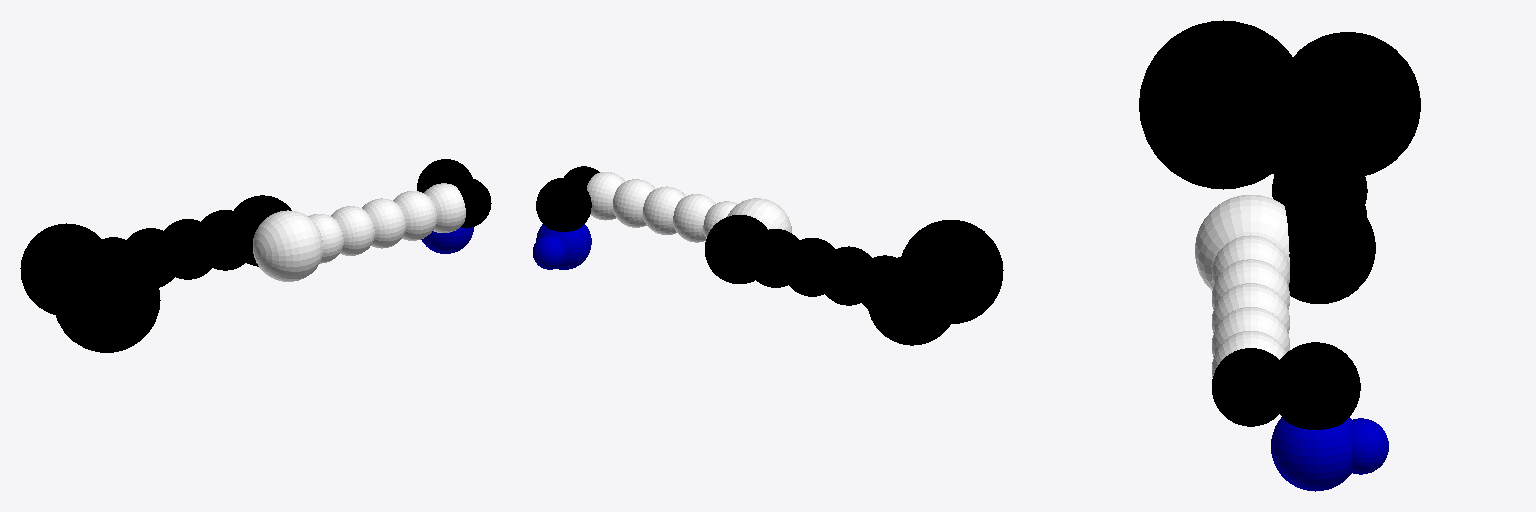
The robot description file, URDF, robot "ur10":
<?xml version="1.0" ?>
<!-- =================================================================================== -->
<!-- |    This document was autogenerated by xacro from urdf/ur10_robot.urdf.xacro     | -->
<!-- |    EDITING THIS FILE BY HAND IS NOT RECOMMENDED                                 | -->
<!-- =================================================================================== -->
<robot name="ur10" xmlns:xacro="http://www.ros.org/wiki/xacro">
    <material name="Red">
        <color rgba="0.8 0.0 0.0 1.0"/>
    </material>
    <material name="Blue">
        <color rgba="0.0 0.0 0.8 1.0"/>
    </material>
    <material name="White">
        <color rgba="1.0 1.0 1.0 1.0"/>
    </material>
    <material name="Black">
        <color rgba="0.0 0.0 0.0 1.0"/>
    </material>
  <!-- common stuff -->
  <gazebo>
    <plugin filename="libgazebo_ros_control.so" name="ros_control">
      <!--robotNamespace>/</robotNamespace-->
      <!--robotSimType>gazebo_ros_control/DefaultRobotHWSim</robotSimType-->
    </plugin>
    <!--
    <plugin name="gazebo_ros_power_monitor_controller" filename="libgazebo_ros_power_monitor.so">
      <alwaysOn>true</alwaysOn>
      <updateRate>1.0</updateRate>
      <timeout>5</timeout>
      <powerStateTopic>power_state</powerStateTopic>
      <powerStateRate>10.0</powerStateRate>
      <fullChargeCapacity>87.78</fullChargeCapacity>
      <dischargeRate>-474</dischargeRate>
      <chargeRate>525</chargeRate>
      <dischargeVoltage>15.52</dischargeVoltage>
      <chargeVoltage>16.41</chargeVoltage>
    </plugin>
-->
  </gazebo>
  <!-- ur10 -->
  <!-- arm -->
  <link name="base_link">
    <visual>
      <geometry>
        <mesh filename="package://meshes/ur10/visual/Base.dae"/>
      </geometry>
    </visual>
    <collision>
      <geometry>
        <mesh filename="package://meshes/ur10/collision/Base.dae"/>
      </geometry>
    </collision>
    <inertial>
      <mass value="4.0"/>
      <origin rpy="0 0 0" xyz="0.0 0.0 0.0"/>
      <inertia ixx="0.0061063308908" ixy="0.0" ixz="0.0" iyy="0.0061063308908" iyz="0.0" izz="0.01125"/>
    </inertial>
  </link>
  <joint name="shoulder_pan_joint" type="revolute">
    <parent link="base_link"/>
    <child link="shoulder_link"/>
    <origin rpy="0.0 0.0 0.0" xyz="0.0 0.0 0.1273"/>
    <axis xyz="0 0 1"/>
    <limit effort="330.0" lower="-6.2831853" upper="6.2831853" velocity="2.16"/>
    <dynamics damping="0.0" friction="0.0"/>
  </joint>
  <link name="shoulder_link">
    <visual>
      <geometry>
        <mesh filename="package://meshes/ur10/visual/Shoulder.dae"/>
      </geometry>
    </visual>
    <collision>
      <geometry>
        <mesh filename="package://meshes/ur10/collision/Shoulder.dae"/>
      </geometry>
    </collision>
    <visual name="ball_0">
      <origin xyz="0.0 -0.0 0.0" rpy="0.0 -0.0 0.0"/>
      <geometry>
        <sphere radius="0.15"/>
      </geometry>
      <material name="Black"/>
    </visual>
    <inertial>
      <mass value="7.778"/>
      <origin rpy="0 0 0" xyz="0.0 0.0 0.0"/>
      <inertia ixx="0.0314743125769" ixy="0.0" ixz="0.0" iyy="0.0314743125769" iyz="0.0" izz="0.021875625"/>
    </inertial>
  </link>
  <joint name="shoulder_lift_joint" type="revolute">
    <parent link="shoulder_link"/>
    <child link="upper_arm_link"/>
    <origin rpy="0.0 1.570796325 0.0" xyz="0.0 0.220941 0.0"/>
    <axis xyz="0 1 0"/>
    <limit effort="330.0" lower="-6.2831853" upper="6.2831853" velocity="2.16"/>
    <dynamics damping="0.0" friction="0.0"/>
  </joint>
  <link name="upper_arm_link">
    <visual>
      <geometry>
        <mesh filename="package://meshes/ur10/visual/UpperArm.dae"/>
      </geometry>
    </visual>
    <collision>
      <geometry>
        <mesh filename="package://meshes/ur10/collision/UpperArm.dae"/>
      </geometry>
    </collision>
    <visual name="ball_0">
      <origin xyz="0.0 -0.0 0.0" rpy="0.0 -0.0 0.0"/>
      <geometry>
        <sphere radius="0.13"/>
      </geometry>
      <material name="Black"/>
    </visual>
    <visual name="ball_1">
      <origin xyz="0.0 -0.05 0.12" rpy="0.0 -0.0 0.0"/>
      <geometry>
        <sphere radius="0.085"/>
      </geometry>
      <material name="Black"/>
    </visual>
    <visual name="ball_2">
      <origin xyz="0.0 -0.05 0.24" rpy="0.0 -0.0 0.0"/>
      <geometry>
        <sphere radius="0.085"/>
      </geometry>
      <material name="Black"/>
    </visual>
    <visual name="ball_3">
      <origin xyz="0.0 -0.05 0.36" rpy="0.0 -0.0 0.0"/>
      <geometry>
        <sphere radius="0.085"/>
      </geometry>
      <material name="Black"/>
    </visual>
    <visual name="ball_4">
      <origin xyz="0.0 -0.05 0.48" rpy="0.0 -0.0 0.0"/>
      <geometry>
        <sphere radius="0.085"/>
      </geometry>
      <material name="Black"/>
    </visual>
    <visual name="ball_5">
      <origin xyz="0.0 -0.05 0.6" rpy="0.0 -0.0 0.0"/>
      <geometry>
        <sphere radius="0.1"/>
      </geometry>
      <material name="Black"/>
    </visual>
    <inertial>
      <mass value="12.93"/>
      <origin rpy="0 0 0" xyz="0.0 0.0 0.306"/>
      <inertia ixx="0.421753803798" ixy="0.0" ixz="0.0" iyy="0.421753803798" iyz="0.0" izz="0.036365625"/>
    </inertial>
  </link>
  <joint name="elbow_joint" type="revolute">
    <parent link="upper_arm_link"/>
    <child link="forearm_link"/>
    <origin rpy="0.0 0.0 0.0" xyz="0.0 -0.1719 0.612"/>
    <axis xyz="0 1 0"/>
    <limit effort="150.0" lower="-6.2831853" upper="6.2831853" velocity="3.15"/>
    <dynamics damping="0.0" friction="0.0"/>
  </joint>
  <link name="forearm_link">
    <visual>
      <geometry>
        <mesh filename="package://meshes/ur10/visual/Forearm.dae"/>
      </geometry>
    </visual>
    <collision>
      <geometry>
        <mesh filename="package://meshes/ur10/collision/Forearm.dae"/>
      </geometry>
    </collision>
    <visual name="ball_0">
      <origin xyz="0.0 0.0 0.0" rpy="0.0 -0.0 0.0"/>
      <geometry>
        <sphere radius="0.1"/>
      </geometry>
      <material name="White"/>
    </visual>
    <visual name="ball_1">
      <origin xyz="0.0 -0.0 0.1" rpy="0.0 -0.0 0.0"/>
      <geometry>
        <sphere radius="0.07"/>
      </geometry>
      <material name="White"/>
    </visual>
    <visual name="ball_2">
      <origin xyz="0.0 -0.0 0.2" rpy="0.0 -0.0 0.0"/>
      <geometry>
        <sphere radius="0.07"/>
      </geometry>
      <material name="White"/>
    </visual>
    <visual name="ball_3">
      <origin xyz="0.0 -0.0 0.3" rpy="0.0 -0.0 0.0"/>
      <geometry>
        <sphere radius="0.07"/>
      </geometry>
      <material name="White"/>
    </visual>
    <visual name="ball_4">
      <origin xyz="0.0 -0.0 0.4" rpy="0.0 -0.0 0.0"/>
      <geometry>
        <sphere radius="0.07"/>
      </geometry>
      <material name="White"/>
    </visual>
    <visual name="ball_5">
      <origin xyz="0.0 -0.0 0.5" rpy="0.0 -0.0 0.0"/>
      <geometry>
        <sphere radius="0.07"/>
      </geometry>
      <material name="White"/>
    </visual>
    <inertial>
      <mass value="3.87"/>
      <origin rpy="0 0 0" xyz="0.0 0.0 0.28615"/>
      <inertia ixx="0.111069694097" ixy="0.0" ixz="0.0" iyy="0.111069694097" iyz="0.0" izz="0.010884375"/>
    </inertial>
  </link>
  <joint name="wrist_1_joint" type="revolute">
    <parent link="forearm_link"/>
    <child link="wrist_1_link"/>
    <origin rpy="0.0 1.570796325 0.0" xyz="0.0 0.0 0.5723"/>
    <axis xyz="0 1 0"/>
    <limit effort="54.0" lower="-6.2831853" upper="6.2831853" velocity="3.2"/>
    <dynamics damping="0.0" friction="0.0"/>
  </joint>
  <link name="wrist_1_link">
    <visual>
      <geometry>
        <mesh filename="package://meshes/ur10/visual/Wrist1.dae"/>
      </geometry>
    </visual>
    <collision>
      <geometry>
        <mesh filename="package://meshes/ur10/collision/Wrist1.dae"/>
      </geometry>
    </collision>
    <visual name="ball_0">
      <origin xyz="0.0 -0.0 0.0" rpy="0.0 -0.0 0.0"/>
      <geometry>
        <sphere radius="0.07"/>
      </geometry>
      <material name="Black"/>
    </visual>
    <inertial>
      <mass value="1.96"/>
      <origin rpy="0 0 0" xyz="0.0 0.0 0.0"/>
      <inertia ixx="0.0051082479567" ixy="0.0" ixz="0.0" iyy="0.0051082479567" iyz="0.0" izz="0.0055125"/>
    </inertial>
  </link>
  <joint name="wrist_2_joint" type="revolute">
    <parent link="wrist_1_link"/>
    <child link="wrist_2_link"/>
    <origin rpy="0.0 0.0 0.0" xyz="0.0 0.1149 0.0"/>
    <axis xyz="0 0 1"/>
    <limit effort="54.0" lower="-6.2831853" upper="6.2831853" velocity="3.2"/>
    <dynamics damping="0.0" friction="0.0"/>
  </joint>
  <link name="wrist_2_link">
    <visual>
      <geometry>
        <mesh filename="package://meshes/ur10/visual/Wrist2.dae"/>
      </geometry>
    </visual>
    <collision>
      <geometry>
        <mesh filename="package://meshes/ur10/collision/Wrist2.dae"/>
      </geometry>
    </collision>
    <visual name="ball_0">
      <origin xyz="0.0 -0.0 0.0" rpy="0.0 -0.0 0.0"/>
      <geometry>
        <sphere radius="0.08"/>
      </geometry>
      <material name="Black"/>
    </visual>
    <inertial>
      <mass value="1.96"/>
      <origin rpy="0 0 0" xyz="0.0 0.0 0.0"/>
      <inertia ixx="0.0051082479567" ixy="0.0" ixz="0.0" iyy="0.0051082479567" iyz="0.0" izz="0.0055125"/>
    </inertial>
  </link>
  <joint name="wrist_3_joint" type="revolute">
    <parent link="wrist_2_link"/>
    <child link="wrist_3_link"/>
    <origin rpy="0.0 0.0 0.0" xyz="0.0 0.0 0.1157"/>
    <axis xyz="0 1 0"/>
    <limit effort="54.0" lower="-6.2831853" upper="6.2831853" velocity="3.2"/>
    <dynamics damping="0.0" friction="0.0"/>
  </joint>
  <link name="wrist_3_link">
    <visual>
      <geometry>
        <mesh filename="package://meshes/ur10/visual/Wrist3.dae"/>
      </geometry>
    </visual>
    <collision>
      <geometry>
        <mesh filename="package://meshes/ur10/collision/Wrist3.dae"/>
      </geometry>
    </collision>
    <visual name="ball_0">
      <origin xyz="0.0 -0.0 0.0" rpy="0.0 -0.0 0.0"/>
      <geometry>
        <sphere radius="0.08"/>
      </geometry>
      <material name="Blue"/>
    </visual>
    <visual name="ball_1">
      <origin xyz="0.0 0.08 0.0" rpy="0.0 -0.0 0.0"/>
      <geometry>
        <sphere radius="0.05"/>
      </geometry>
      <material name="Blue"/>
    </visual>
    <inertial>
      <mass value="0.202"/>
      <origin rpy="0 0 0" xyz="0.0 0.0 0.0"/>
      <inertia ixx="0.000526462289415" ixy="0.0" ixz="0.0" iyy="0.000526462289415" iyz="0.0" izz="0.000568125"/>
    </inertial>
  </link>
  <joint name="ee_fixed_joint" type="fixed">
    <parent link="wrist_3_link"/>
    <child link="ee_link"/>
    <origin rpy="0.0 0.0 1.570796325" xyz="0.0 0.0922 0.0"/>
  </joint>
  <link name="ee_link"/>
  <transmission name="shoulder_pan_trans">
    <type>transmission_interface/SimpleTransmission</type>
    <joint name="shoulder_pan_joint"/>
    <actuator name="shoulder_pan_motor">
      <hardwareInterface>EffortJointInterface</hardwareInterface>
      <mechanicalReduction>1</mechanicalReduction>
    </actuator>
  </transmission>
  <transmission name="shoulder_lift_trans">
    <type>transmission_interface/SimpleTransmission</type>
    <joint name="shoulder_lift_joint"/>
    <actuator name="shoulder_lift_motor">
      <hardwareInterface>EffortJointInterface</hardwareInterface>
      <mechanicalReduction>1</mechanicalReduction>
    </actuator>
  </transmission>
  <transmission name="elbow_trans">
    <type>transmission_interface/SimpleTransmission</type>
    <joint name="elbow_joint"/>
    <actuator name="elbow_motor">
      <hardwareInterface>EffortJointInterface</hardwareInterface>
      <mechanicalReduction>1</mechanicalReduction>
    </actuator>
  </transmission>
  <transmission name="wrist_1_trans">
    <type>transmission_interface/SimpleTransmission</type>
    <joint name="wrist_1_joint"/>
    <actuator name="wrist_1_motor">
      <hardwareInterface>EffortJointInterface</hardwareInterface>
      <mechanicalReduction>1</mechanicalReduction>
    </actuator>
  </transmission>
  <transmission name="wrist_2_trans">
    <type>transmission_interface/SimpleTransmission</type>
    <joint name="wrist_2_joint"/>
    <actuator name="wrist_2_motor">
      <hardwareInterface>EffortJointInterface</hardwareInterface>
      <mechanicalReduction>1</mechanicalReduction>
    </actuator>
  </transmission>
  <transmission name="wrist_3_trans">
    <type>transmission_interface/SimpleTransmission</type>
    <joint name="wrist_3_joint"/>
    <actuator name="wrist_3_motor">
      <hardwareInterface>EffortJointInterface</hardwareInterface>
      <mechanicalReduction>1</mechanicalReduction>
    </actuator>
  </transmission>
  <link name="world"/>
  <joint name="world_joint" type="fixed">
    <parent link="world"/>
    <child link="base_link"/>
    <origin rpy="0.0 0.0 0.0" xyz="0.0 0.0 0.0"/>
  </joint>
</robot>

--- Facts derived from the render (not from the file) ---
Views: 3 orthographic renders of the robot side by side, from view 1: azimuth 30°, elevation 25°; view 2: azimuth 150°, elevation 25°; view 3: azimuth 270°, elevation 25°.
Model ur10 with 9 links and 8 joints (6 revolute, 2 fixed), rooted at world, posed all joints at 0.
Links seen in each view (by area): view 1: upper_arm_link, forearm_link, shoulder_link, wrist_1_link, wrist_2_link, wrist_3_link; view 2: upper_arm_link, forearm_link, shoulder_link, wrist_2_link, wrist_3_link; view 3: upper_arm_link, shoulder_link, forearm_link, wrist_3_link, wrist_2_link, wrist_1_link.
Boxes of the visible links, bbox=[...] form: upper_arm_link: bbox=[20, 195, 291, 314]; forearm_link: bbox=[253, 183, 465, 281]; shoulder_link: bbox=[53, 245, 160, 352]; wrist_1_link: bbox=[450, 178, 491, 227]; wrist_2_link: bbox=[417, 159, 472, 192]; wrist_3_link: bbox=[421, 227, 473, 253]; upper_arm_link: bbox=[705, 215, 957, 345]; forearm_link: bbox=[587, 172, 791, 242]; shoulder_link: bbox=[902, 220, 1003, 323]; wrist_2_link: bbox=[536, 178, 591, 231]; wrist_3_link: bbox=[533, 224, 591, 269]; upper_arm_link: bbox=[1272, 32, 1420, 303]; shoulder_link: bbox=[1139, 20, 1292, 189]; forearm_link: bbox=[1195, 195, 1289, 377]; wrist_3_link: bbox=[1271, 417, 1388, 491]; wrist_2_link: bbox=[1280, 342, 1360, 429]; wrist_1_link: bbox=[1212, 348, 1279, 426].
Size in the robot's own frame: 1.41 by 0.5009 by 0.3457 metres.
0 mesh visuals loaded from 7 distinct referenced files (none loaded); not drawn: 7 (reference not matched to a file when rendering).